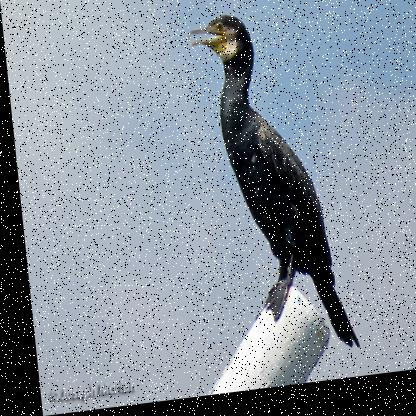Burung: (185, 7, 352, 370)
